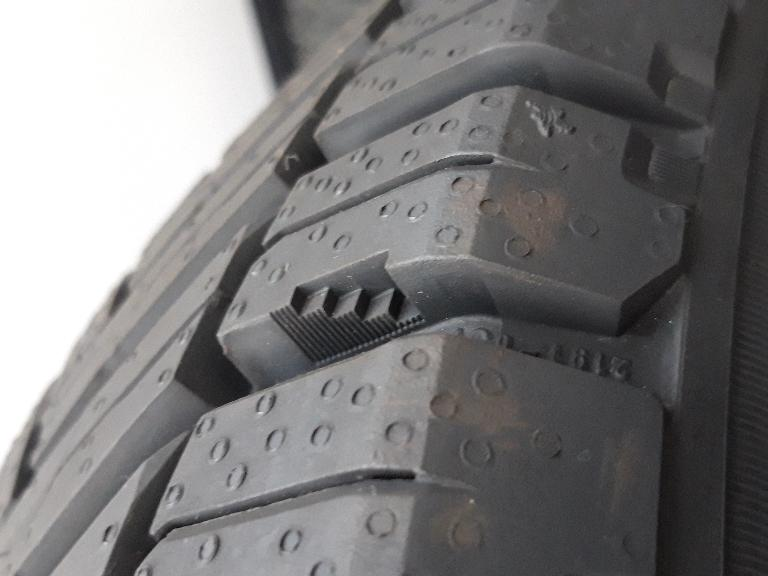temoin:100: (263, 244, 432, 374)
